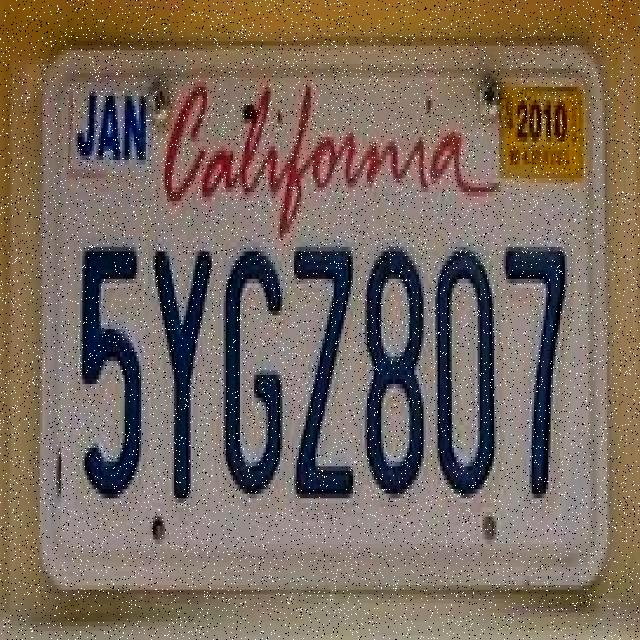licenseplate: (31, 19, 616, 612)
